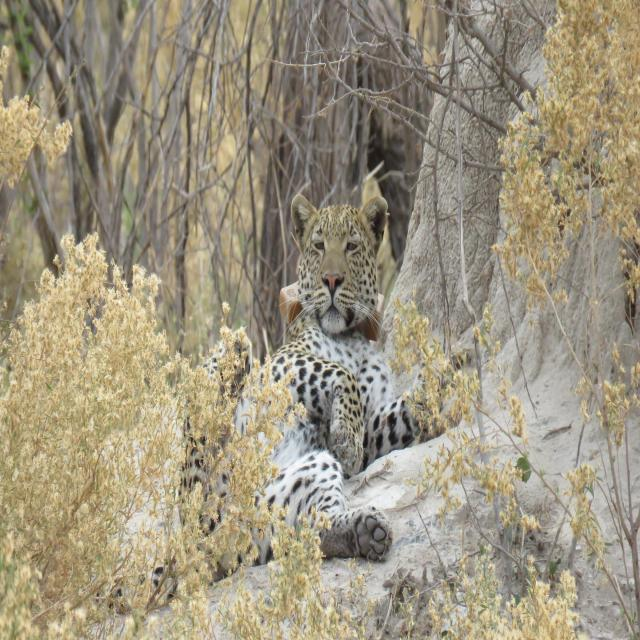Leopard: (99, 188, 454, 598)
